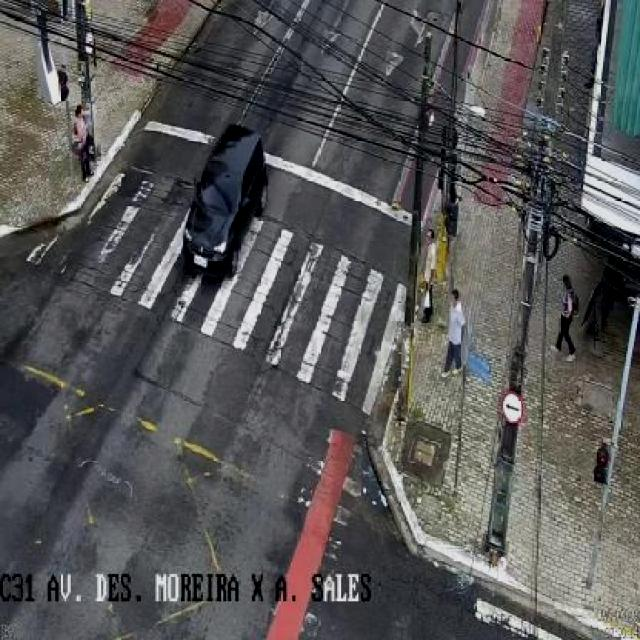Car: (179, 125, 270, 282)
